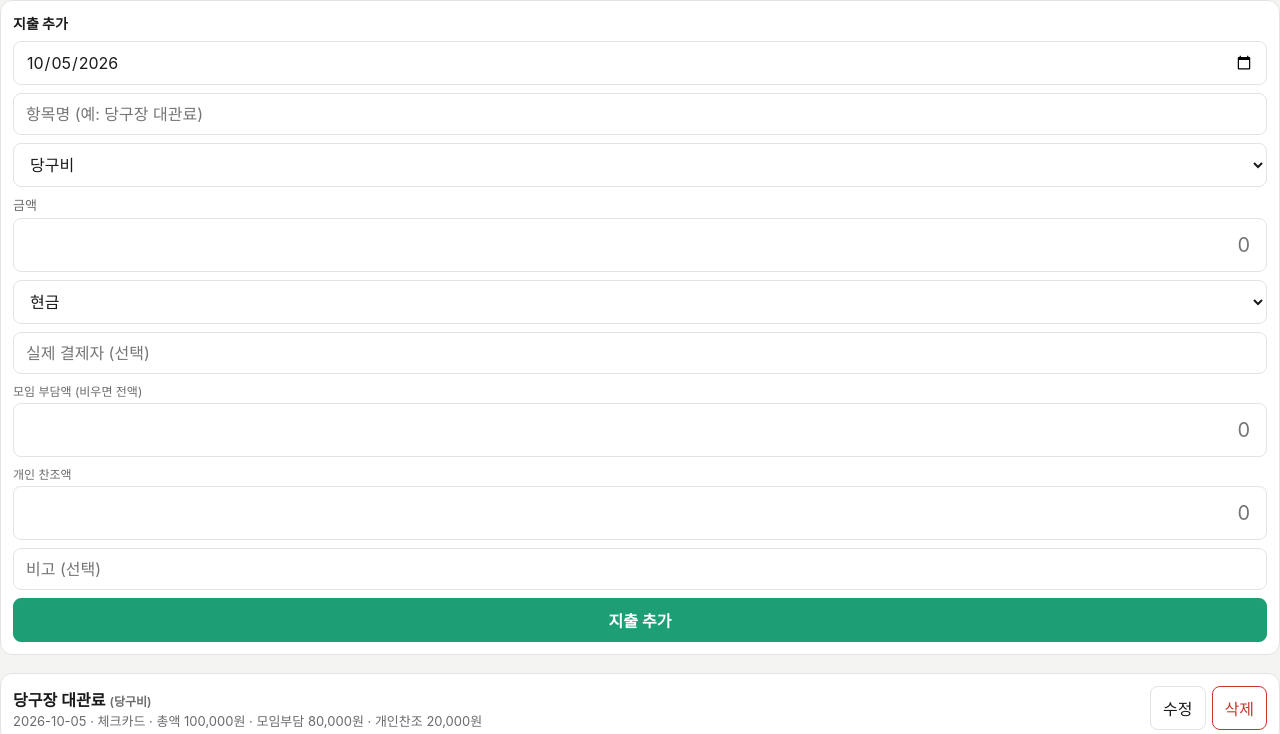
Test: 수정 저장 / 취소 — 기존 기능 그대로 › 6-b. 저장: 목록이 갱신되고 수정 상태가 풀리며, 고친 항목이 보이도록 그 항목으로 이동한다
Click the button "수정" in the row of "· 개인찬조 20,000원" at point(1178, 708), box [1150,686,1206,730]
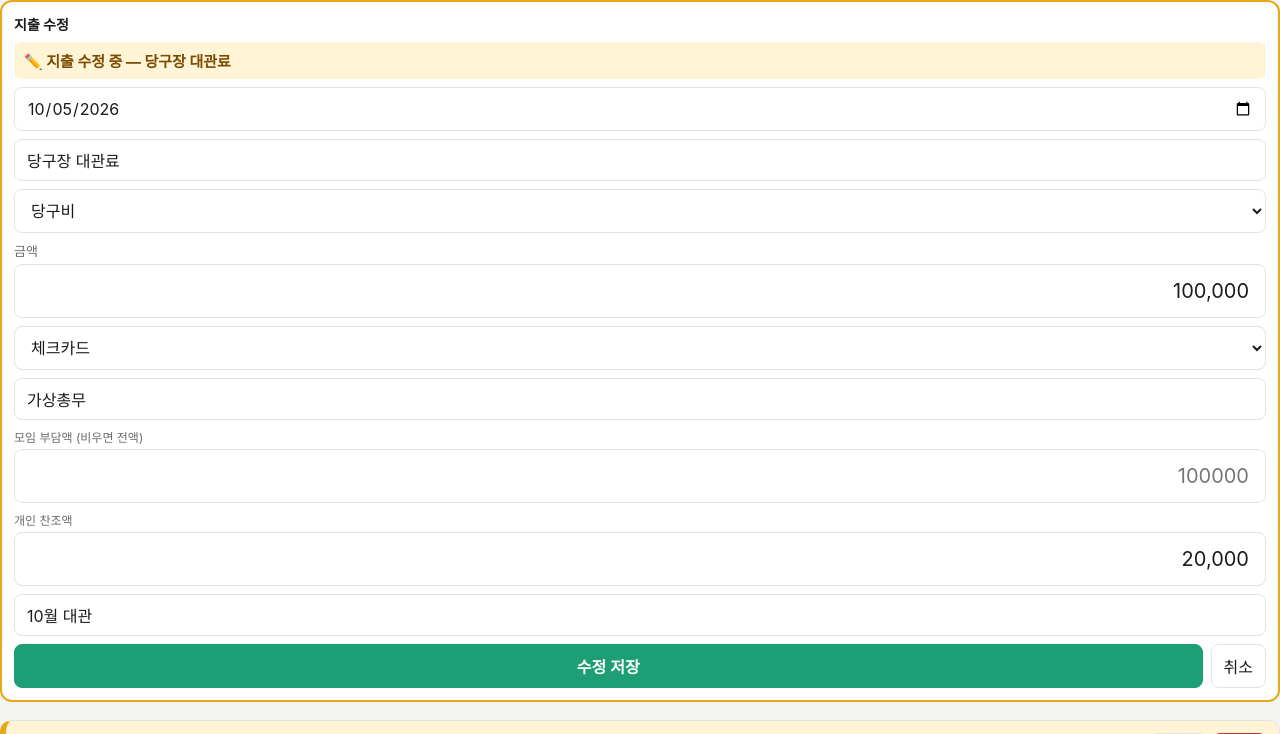
Replace the text in the 1st field showing "당구장 대관료" with "당구장 대관료(수정)" at point(640, 160), box [14,139,1266,181]
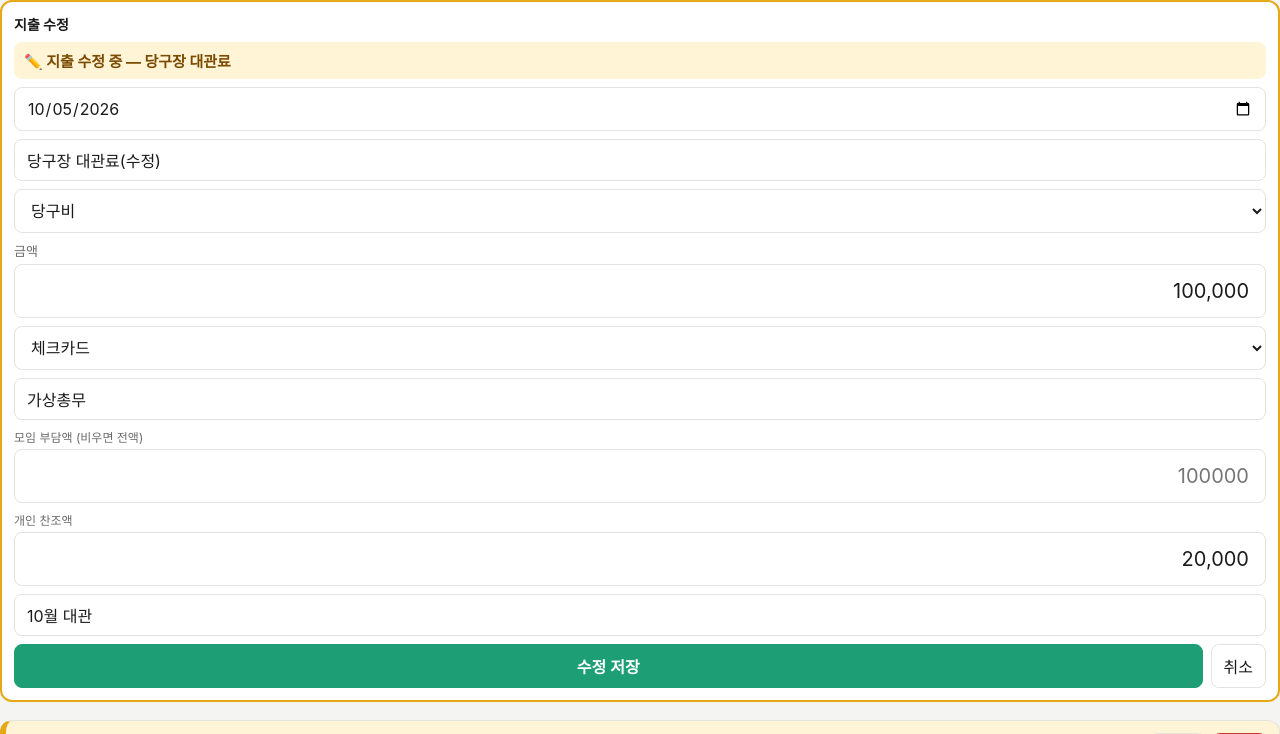
Click the button "수정 저장" at point(608, 666), box [14,644,1202,688]
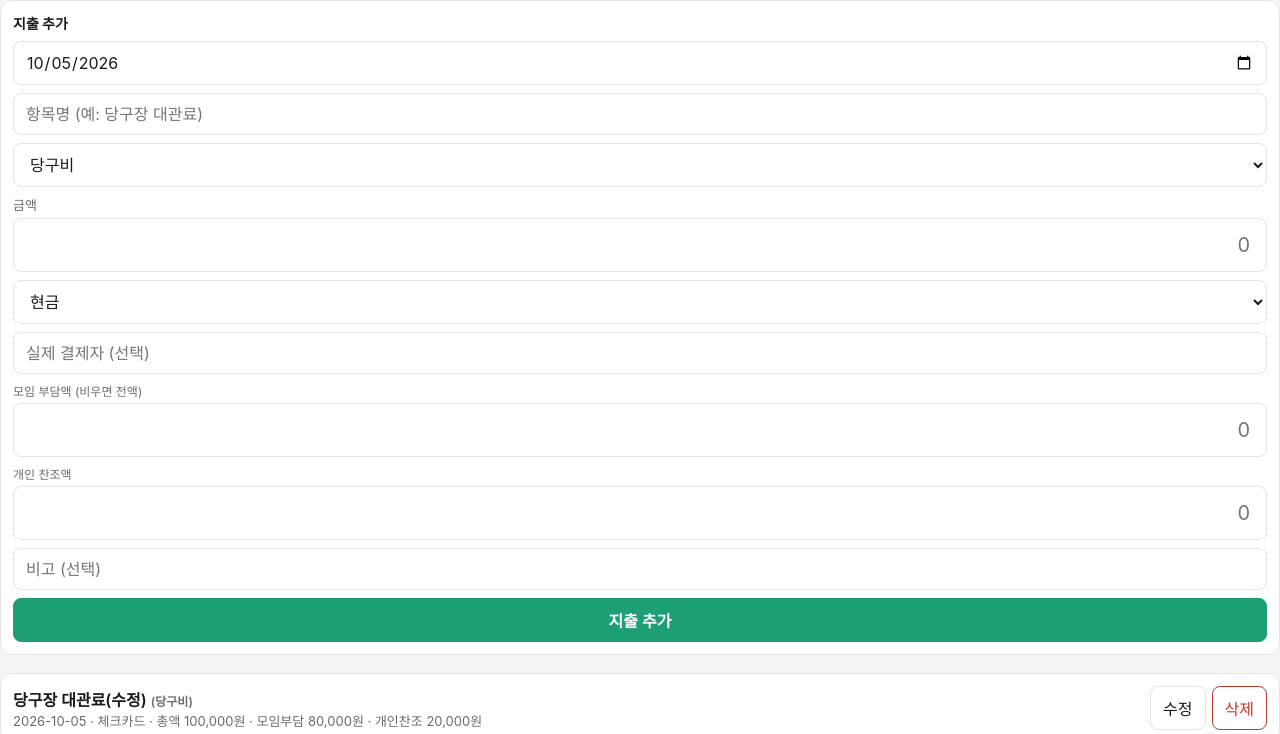
Result: the message with test id "expense-editing-banner" is gone
Result: the text "지출 추가" is shown at [13,15,68,32]
Result: the text "당구장 대관료(수정) (당구비)" is shown at [13,690,193,710]
